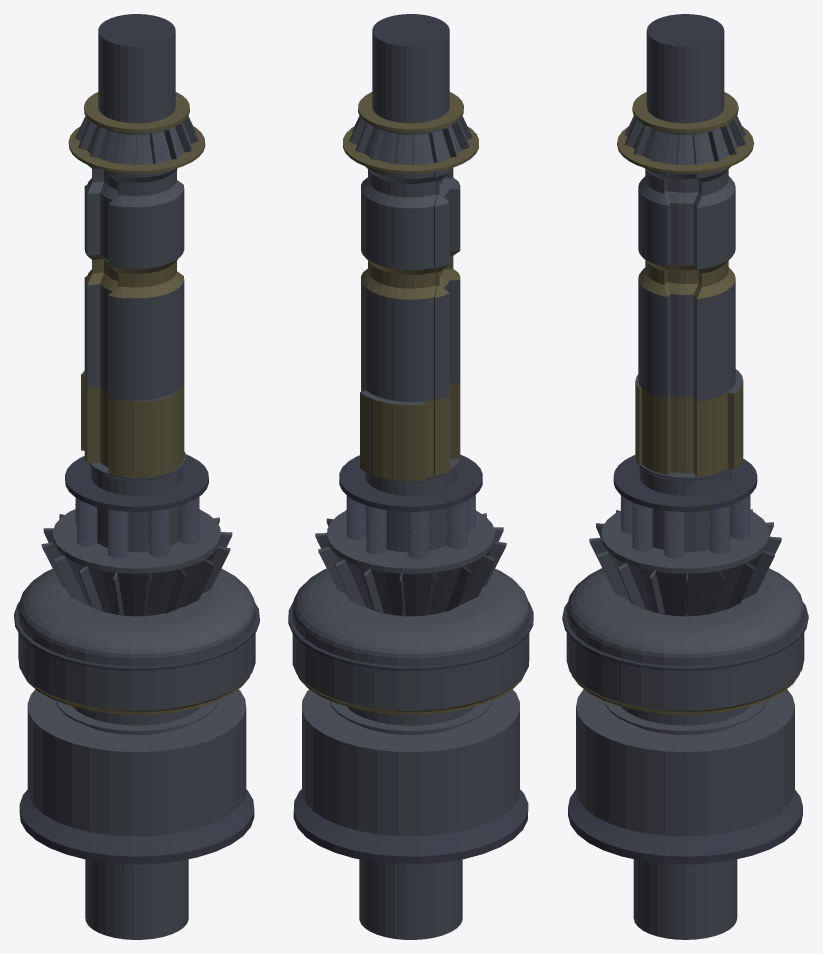
The model's file is 远处巨型打桩机.fbx.
3 views of the same model, side by side, from view 1: azimuth 30°, elevation 25°; view 2: azimuth 150°, elevation 25°; view 3: azimuth 270°, elevation 25° (orthographic).
Visible parts, largest first — view 1: 远处巨型打桩机; view 2: 远处巨型打桩机; view 3: 远处巨型打桩机.
Part boxes in pixels (<box>): 远处巨型打桩机: <box>14,14,259,939</box>; 远处巨型打桩机: <box>288,14,533,939</box>; 远处巨型打桩机: <box>562,14,808,939</box>.
Bounding box in the file's own units: 2.92 × 11.6 × 2.92.
